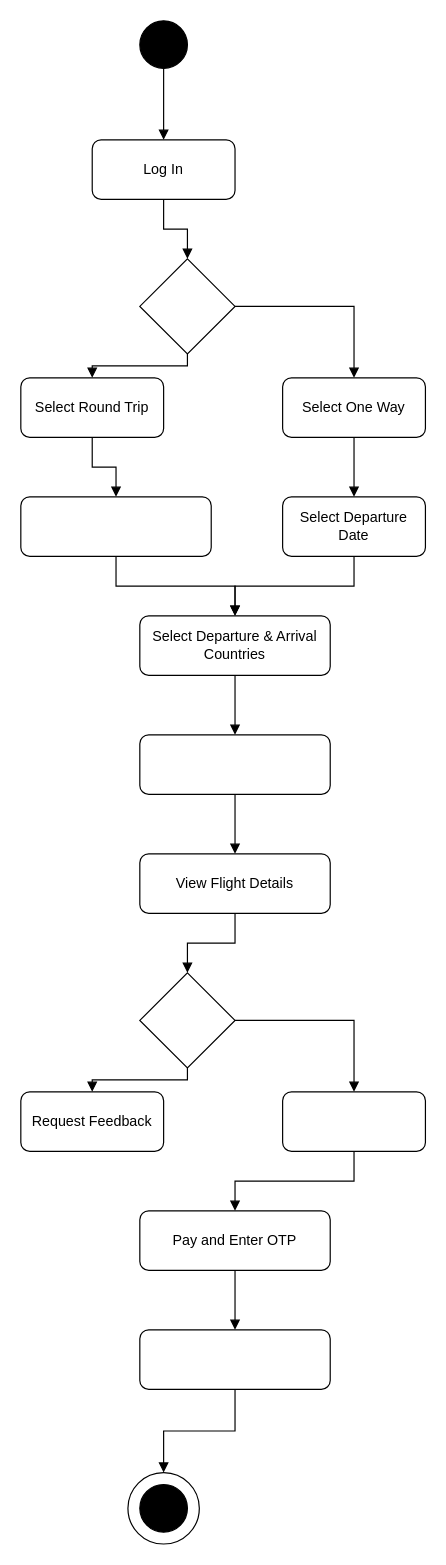
Image size: 446x1565. Some labels were removed from this diagram. The shapes that lost their labels are listed below. From the top down, each one's centre as x and y in pixels, then its label:
At (115,526): "Select Departure & Return Dates".
At (234,764): "Search for Available Flights".
At (353,1121): "Proceed to Booking".
At (234,1359): "Receive Ticket & Check History".
